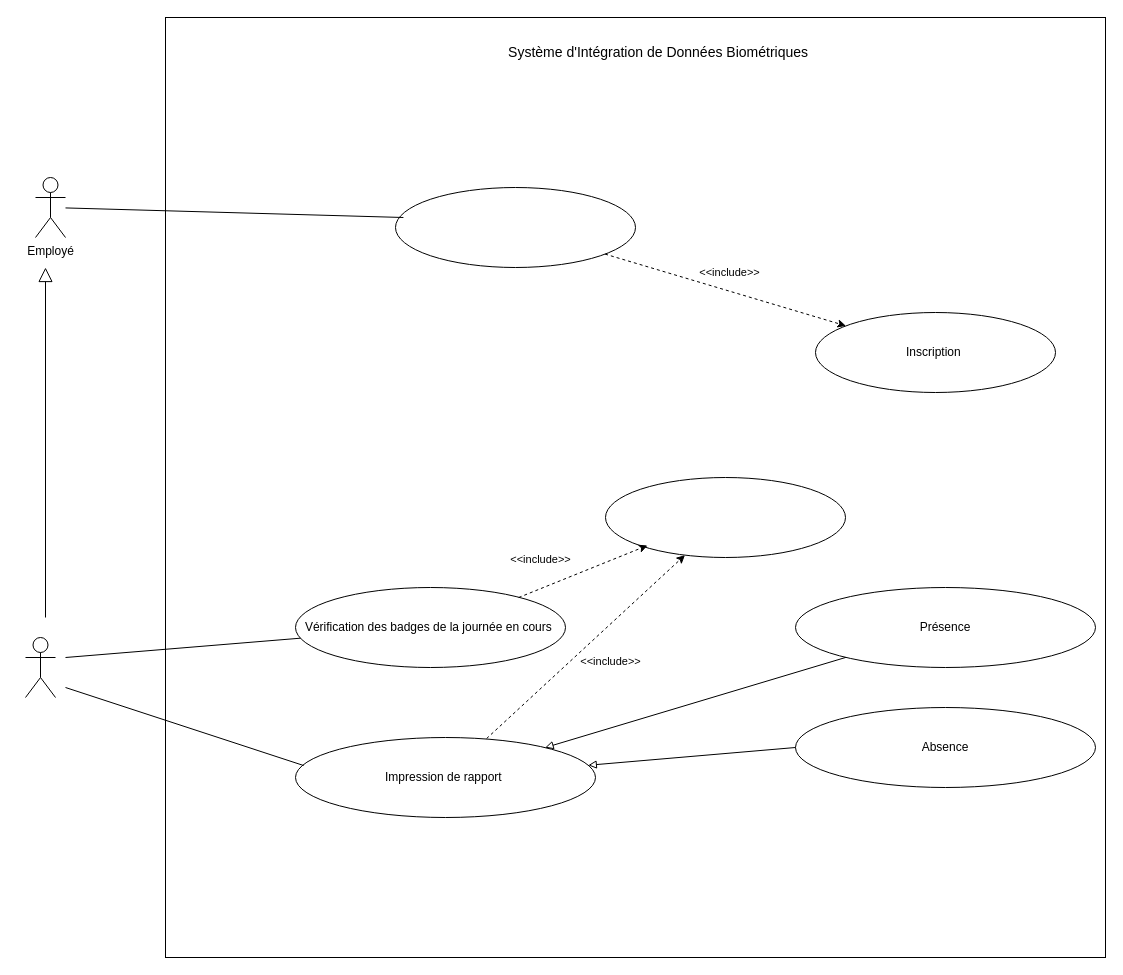
Image size: 1123x975. Some labels were removed from this diagram. The centre of each missing label's shape, as x and y in pixels:
"Accès au locaux" belongs at (515,227).
"Connection" belongs at (725,517).
"Manager" belongs at (40,667).
